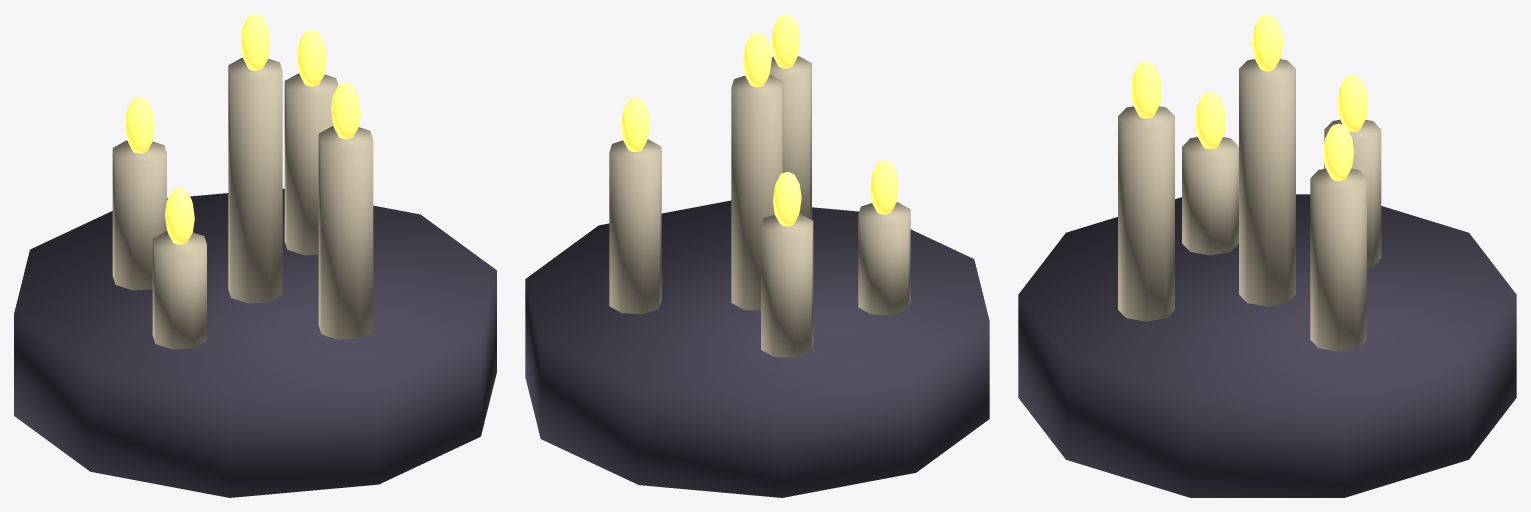
File: candles.glb
3 renders of one model, left to right at view 1: azimuth 30°, elevation 25°; view 2: azimuth 150°, elevation 25°; view 3: azimuth 270°, elevation 25°, orthographic. The views are drawn at different scales.
Parts seen in each view (by area): view 1: Body; view 2: Body; view 3: Body.
Boxes of the visible parts, x1,y1,x2,y2 form: Body: (14,14,496,497); Body: (525,14,989,497); Body: (1018,14,1516,497).
Bounding box in the file's own units: 0.6657 × 0.595 × 0.7.
